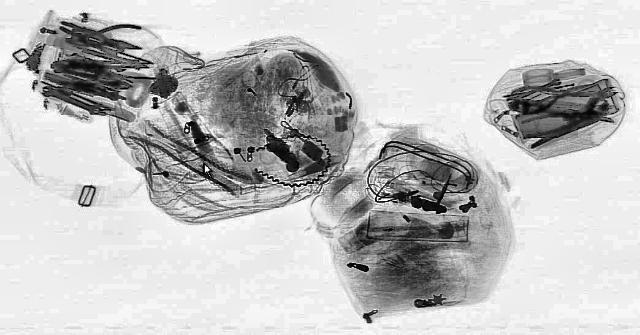Pliers: (55, 16, 159, 64), (528, 77, 630, 122), (508, 105, 608, 139), (60, 24, 150, 56)
Wrench: (31, 83, 111, 116), (500, 76, 566, 104)
